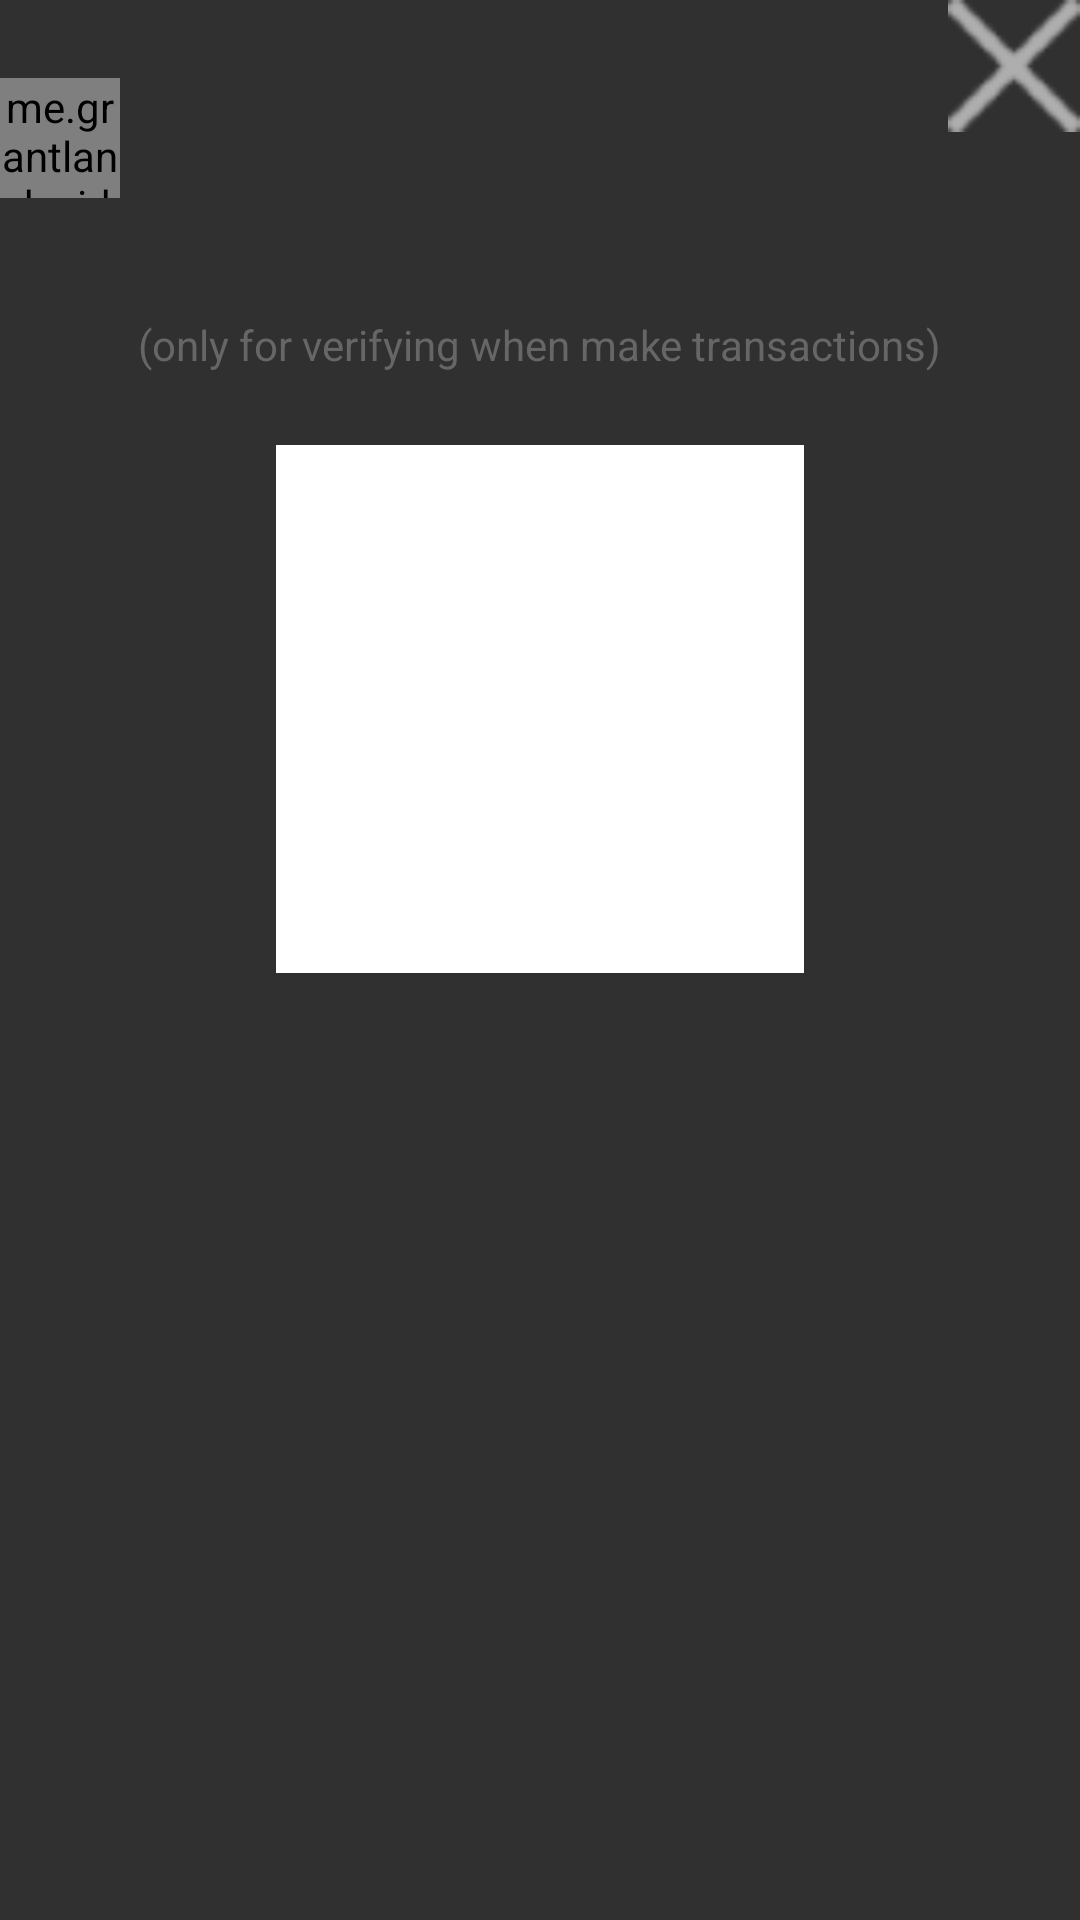

Screen size 1080px x 1920px. Icon name, then its center in pixels as point (x, y):
close: point (1014, 66)
